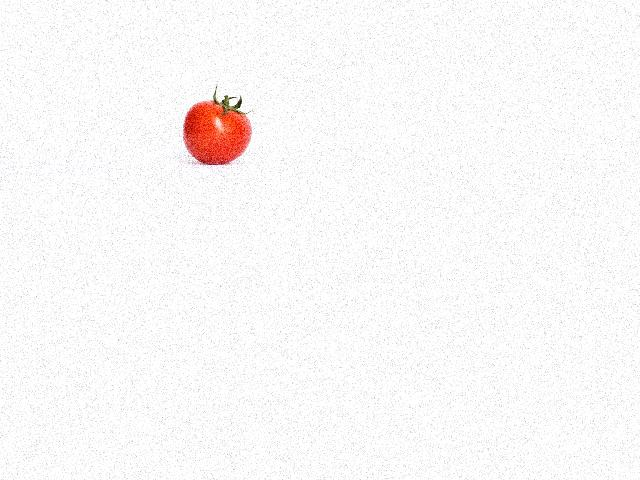tomato: (182, 100, 250, 163)
